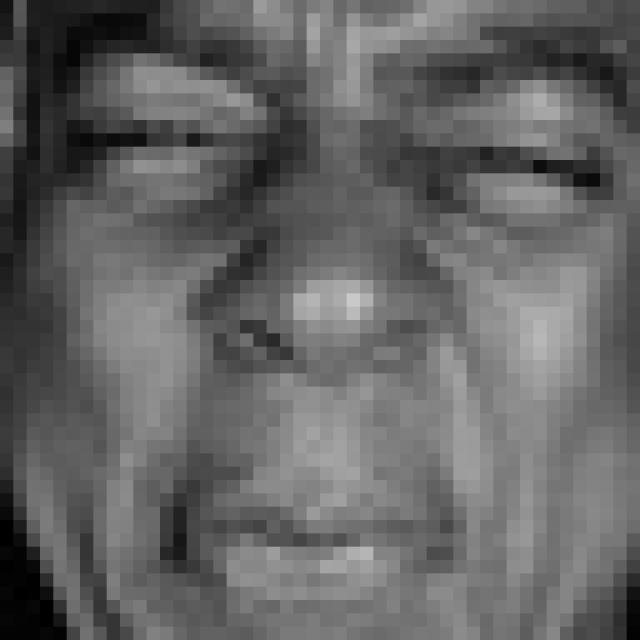disgust: (59, 0, 640, 612)
